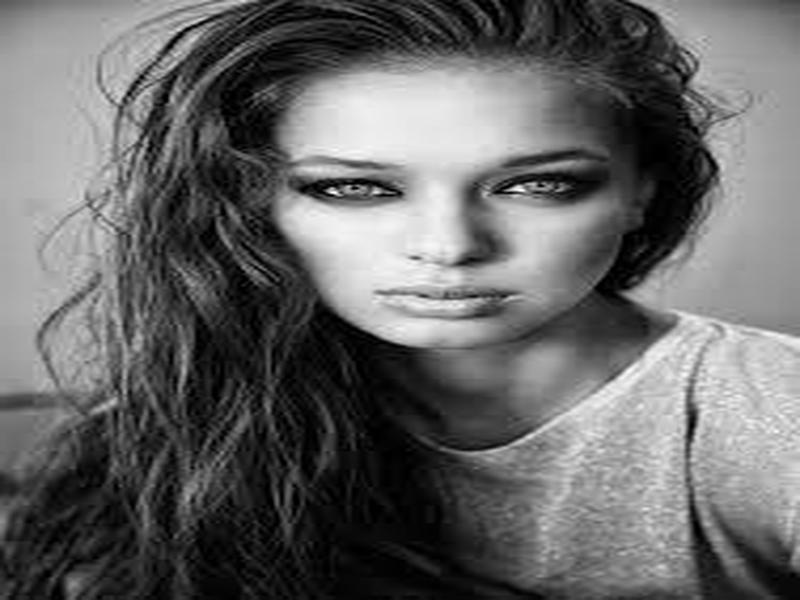without_mask: (270, 95, 629, 355)
